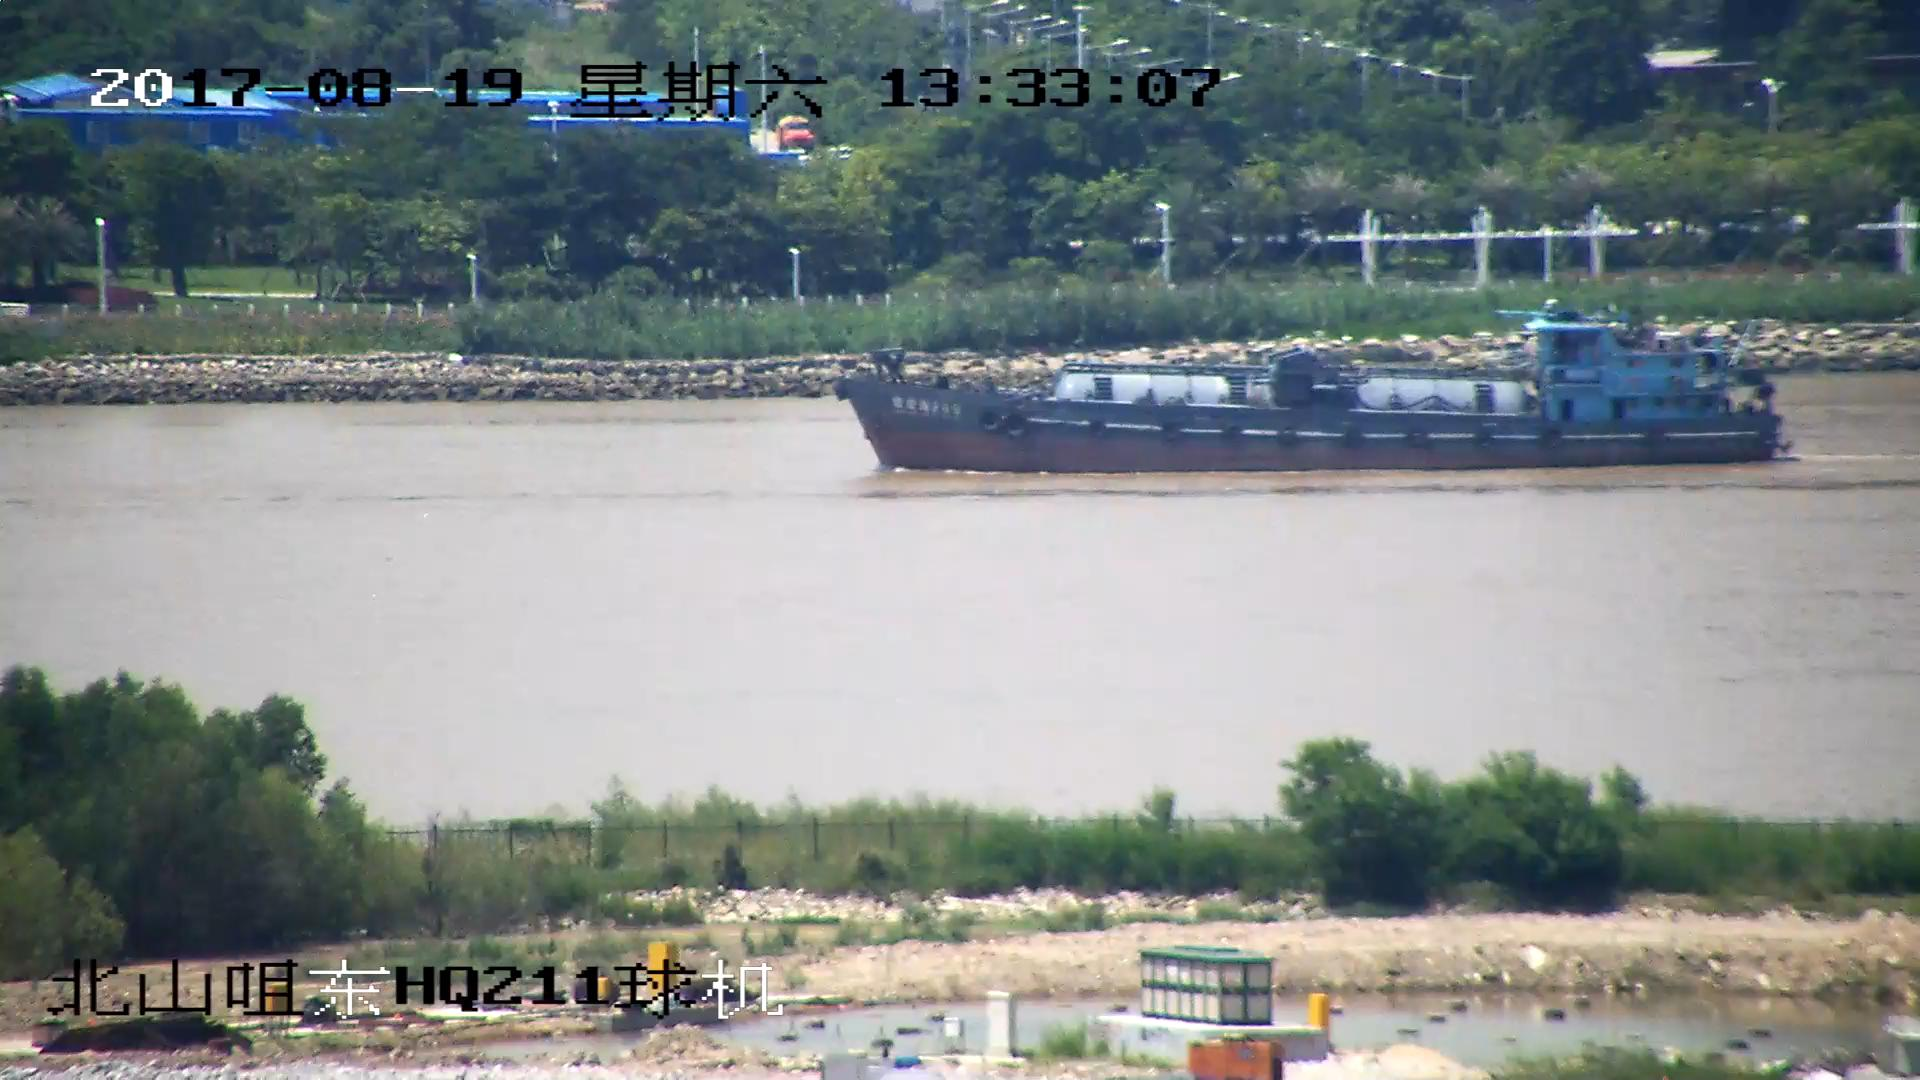bulk cargo carrier: (837, 302, 1794, 469)
